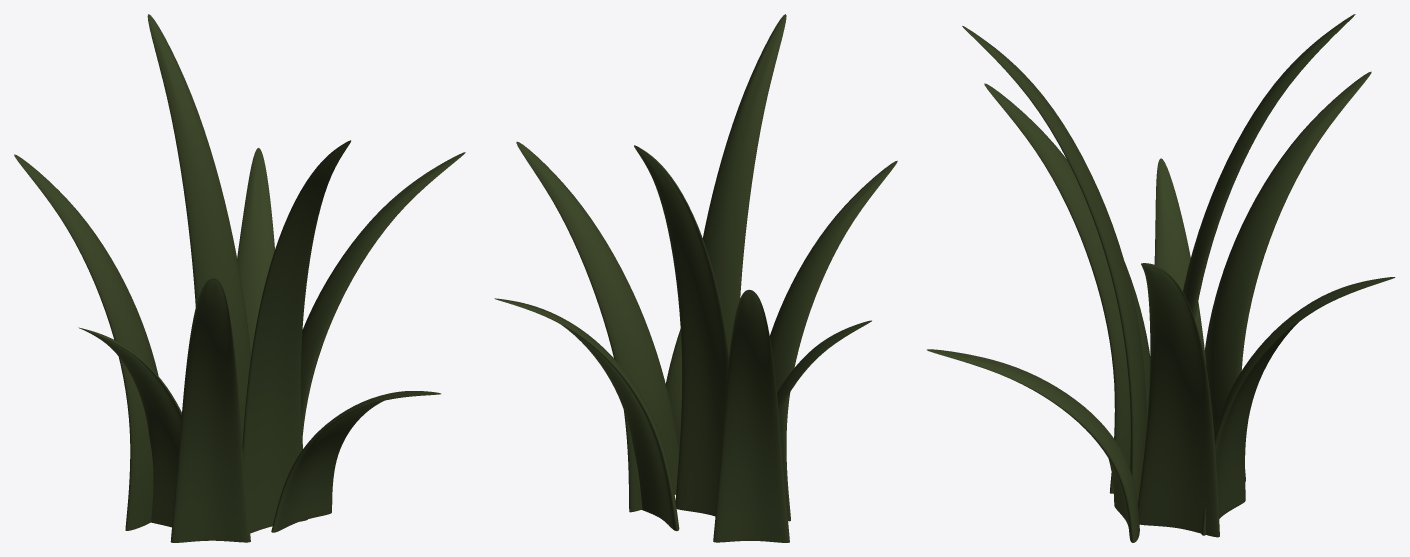
File: grass.fbx
The picture shows the model from 3 angles, left to right: view 1: azimuth 30°, elevation 25°; view 2: azimuth 150°, elevation 25°; view 3: azimuth 270°, elevation 25°; orthographic projection. The views are drawn at different scales.
Visible parts, largest first — view 1: grass; view 2: grass; view 3: grass.
Part boxes in pixels (x1,y1,x2,y2): grass: [14, 14, 465, 542]; grass: [494, 14, 897, 542]; grass: [927, 14, 1395, 542].
Size of the model in its own units: 2.94 by 3.29 by 2.87.
